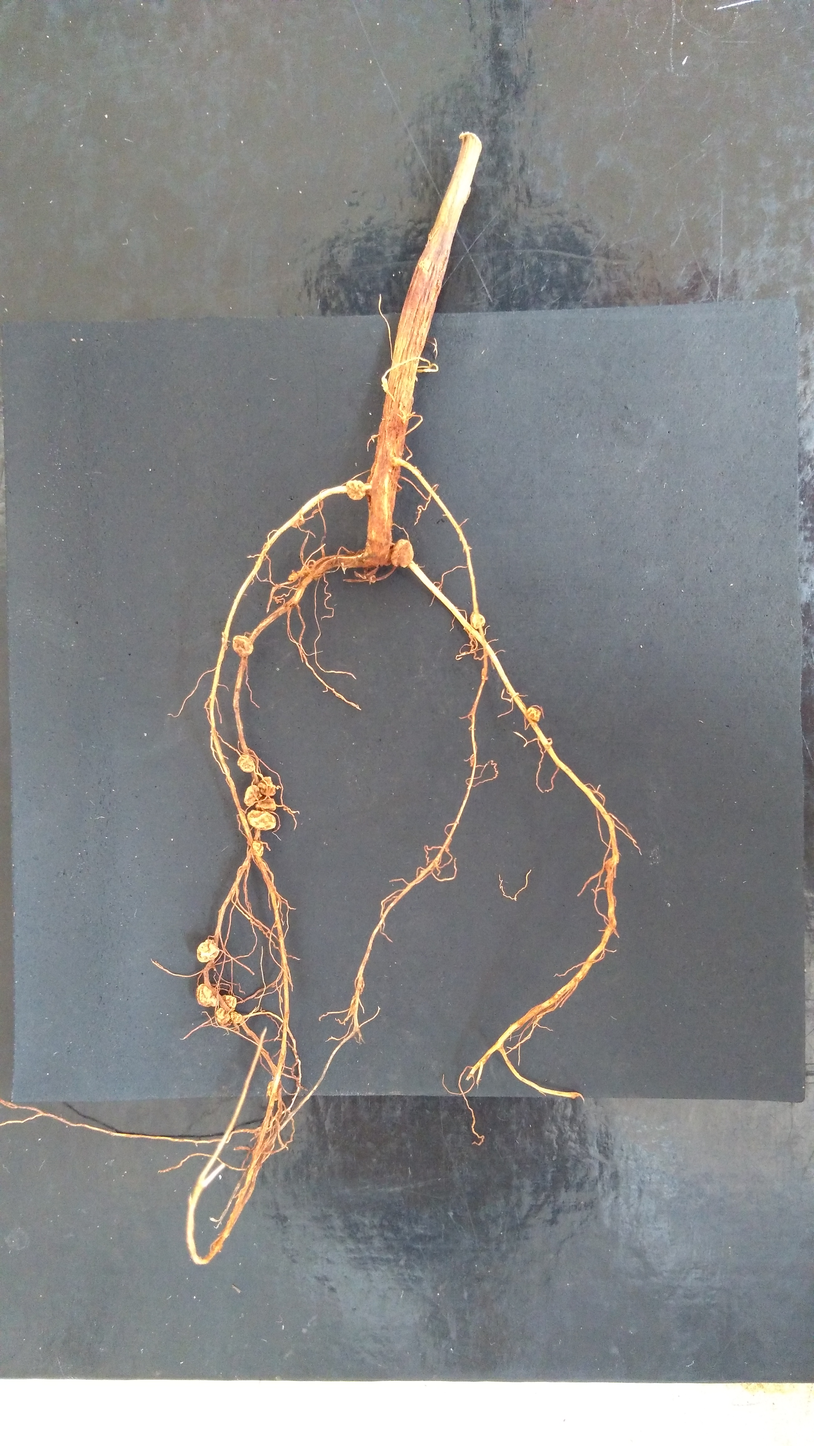nodule: (390, 539, 414, 568), (247, 809, 276, 830), (197, 939, 219, 962), (196, 984, 218, 1007), (232, 635, 253, 657), (346, 480, 365, 500), (244, 785, 262, 806), (237, 755, 255, 773), (258, 777, 275, 796), (470, 612, 485, 629), (255, 799, 276, 811), (267, 1081, 280, 1100), (216, 1007, 230, 1024), (526, 707, 541, 722), (222, 995, 236, 1009), (252, 839, 263, 856), (228, 1011, 242, 1024), (291, 518, 305, 527), (354, 571, 366, 580), (288, 572, 297, 580), (370, 575, 376, 583), (297, 571, 305, 577)
